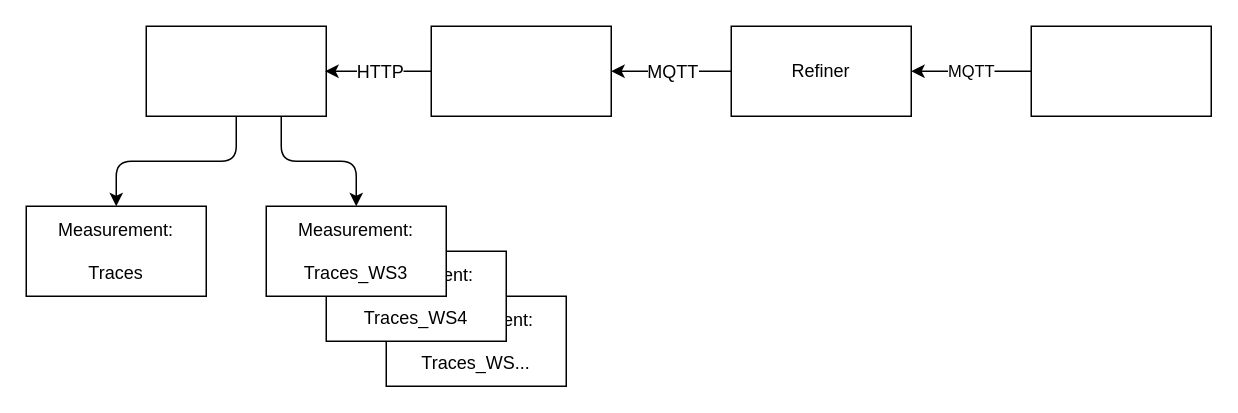
Some shapes in this 1238 by 413 pixel diagram are drawn without their labels. Here are the shapes that lost their labels. From the top down, the centre of each, then its label:
At pixel 235 70: "InfluxDB".
At pixel 520 70: "InfluxAdapter".
At pixel 1120 70: "Tracer".
